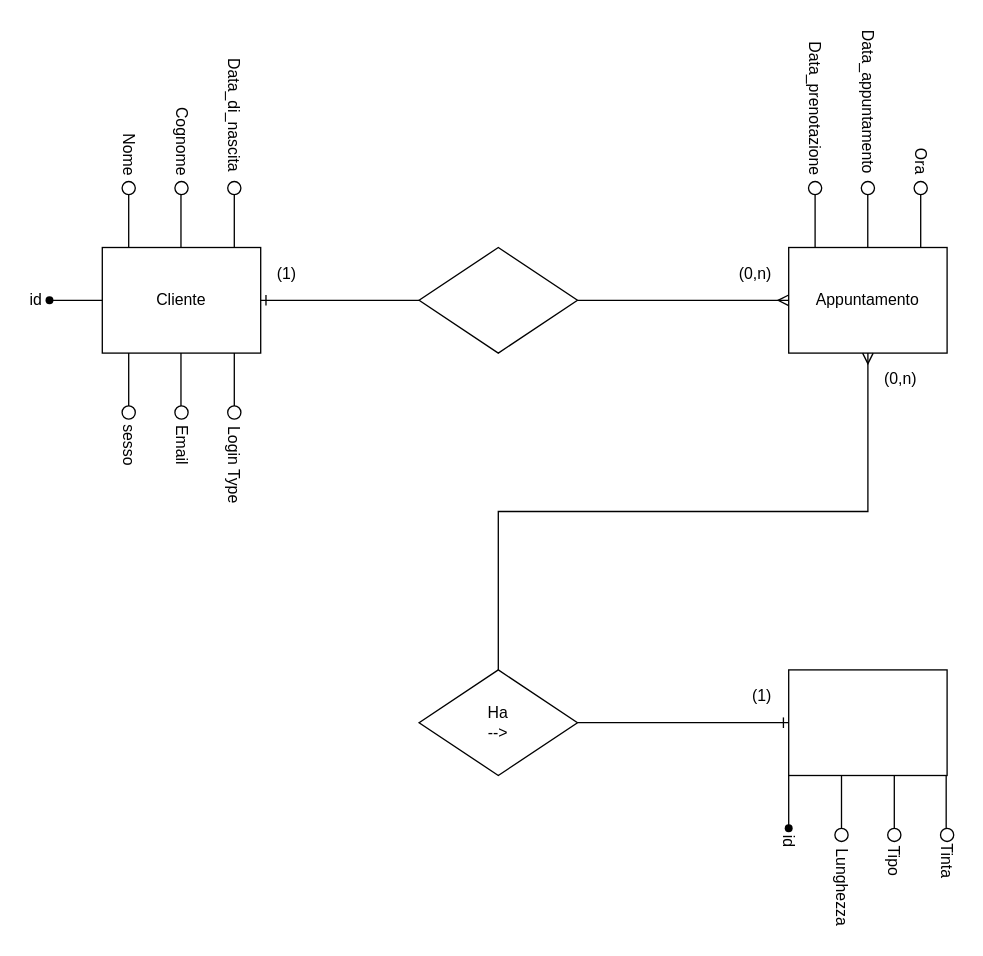
Some shapes in this 983 by 956 pixel diagram are drawn without their labels. The shapes that lost their labels are listed below. From the top down, each one's centre as x and y in pixels, then its label:
[498,299]: Prenota -->
[867,722]: Acconciatura
